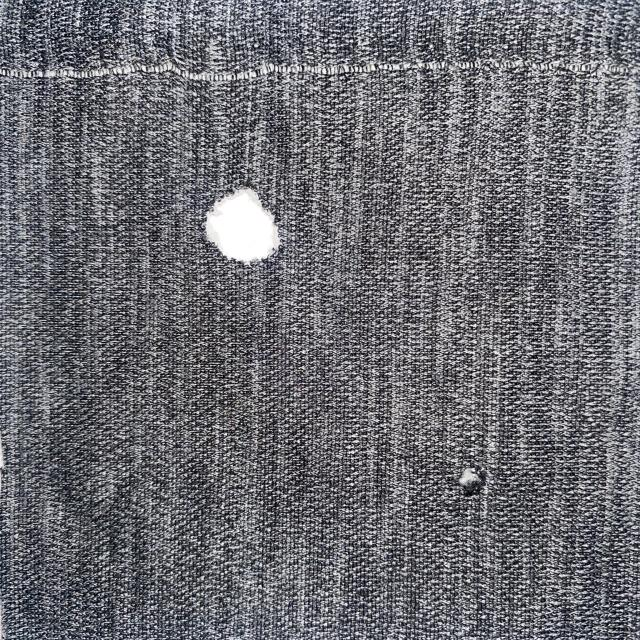Hole: (202, 176, 284, 272)
Knot: (460, 467, 487, 497)
Line: (1, 56, 640, 82)
